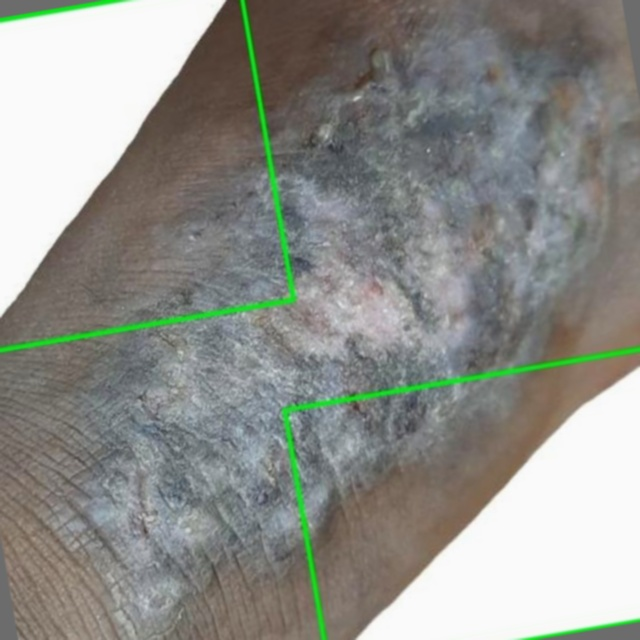Contact Dermatitis: (284, 349, 639, 639), (0, 0, 293, 348)
